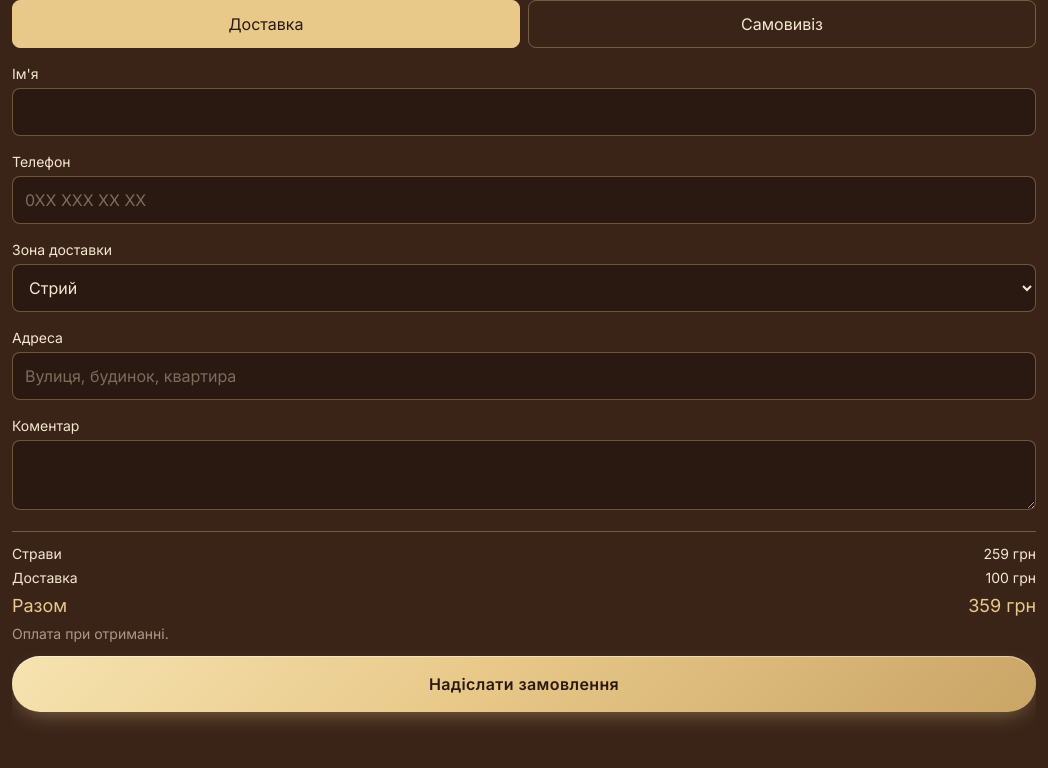
Scenario: CheckoutForm › shows the venue phone and keeps the cart when the server fails
The width and height of the screenshot is (1048, 768).
Step 1. Click the radio button labelled "Самовивіз" → click(782, 24), box left=528, top=0, right=1036, bottom=48
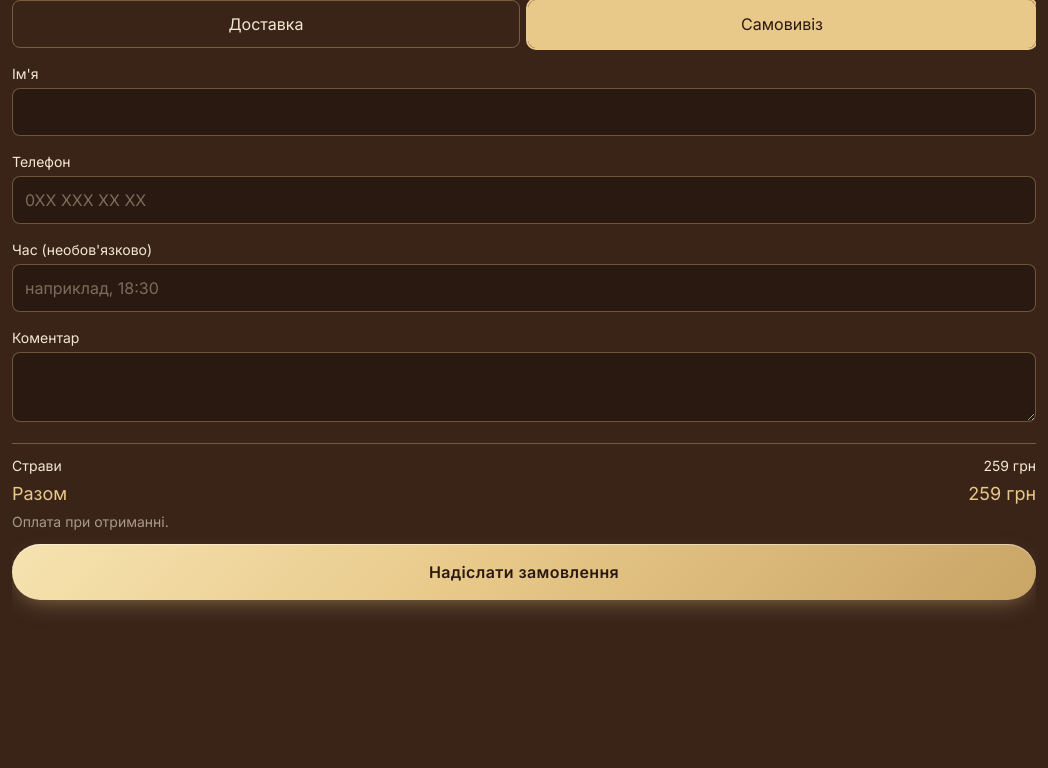
Step 2. Type "Іван" into the field labelled "Ім'я" → (524, 112), box left=12, top=88, right=1036, bottom=136
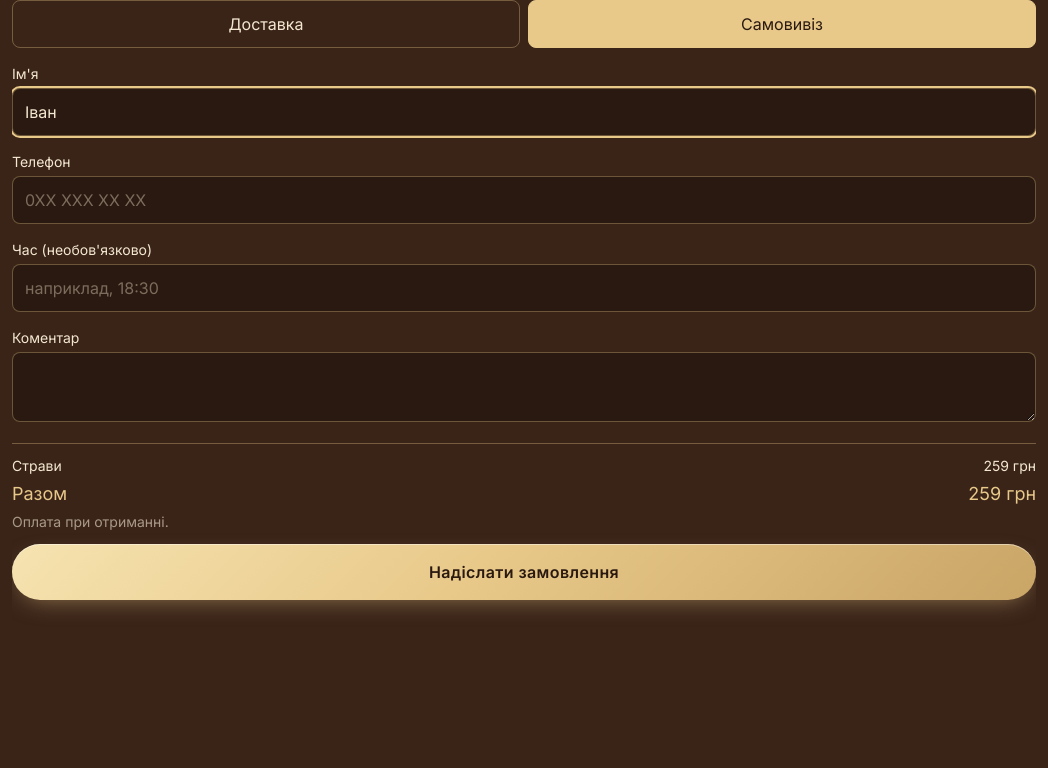
Step 3. Type "0730888087" into the field labelled "Телефон" → (524, 200), box left=12, top=176, right=1036, bottom=224
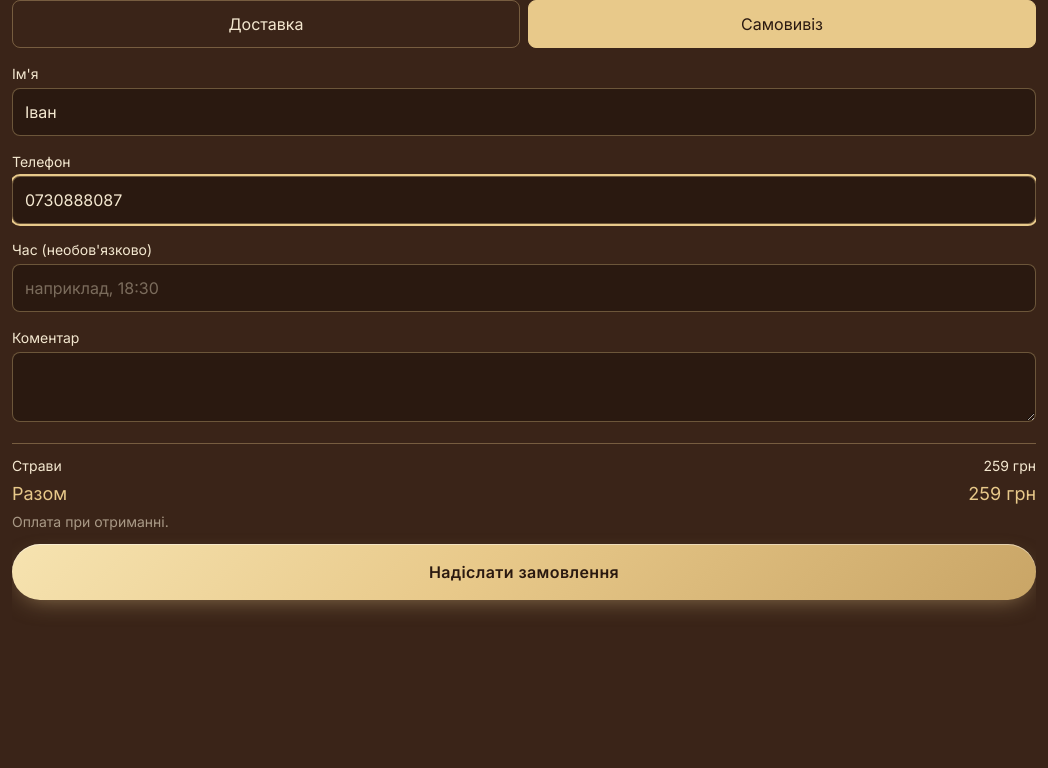
Step 4. Click the button "Надіслати замовлення" → click(524, 572), box left=12, top=544, right=1036, bottom=600
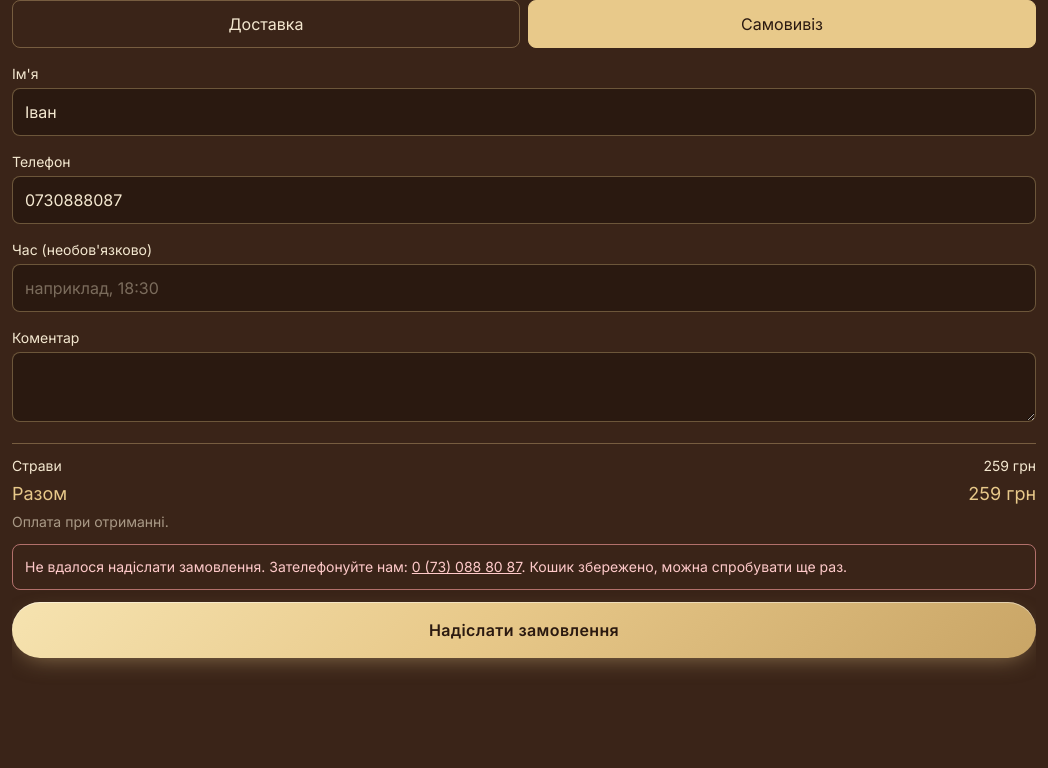
Expected: the link "0 (73) 088 80 87" is shown, left=412, top=558, right=521, bottom=575
